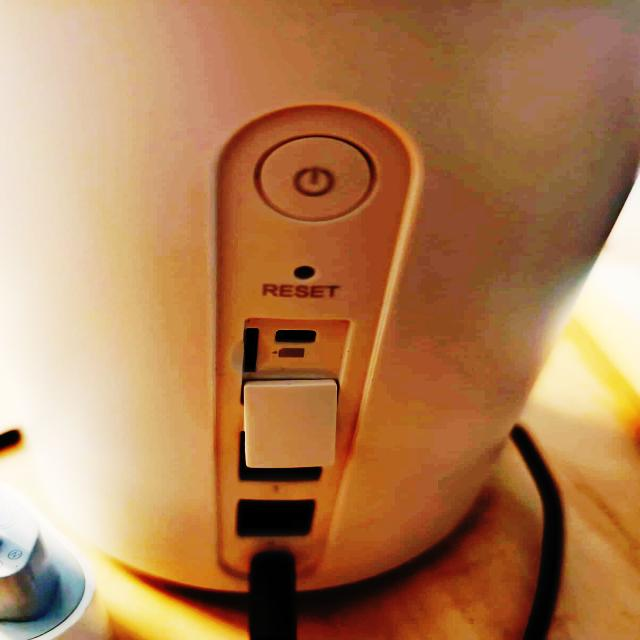lan: (238, 498, 308, 534)
modem: (0, 0, 632, 594)
onbutton: (260, 136, 380, 228)
simopen: (228, 314, 264, 380)
